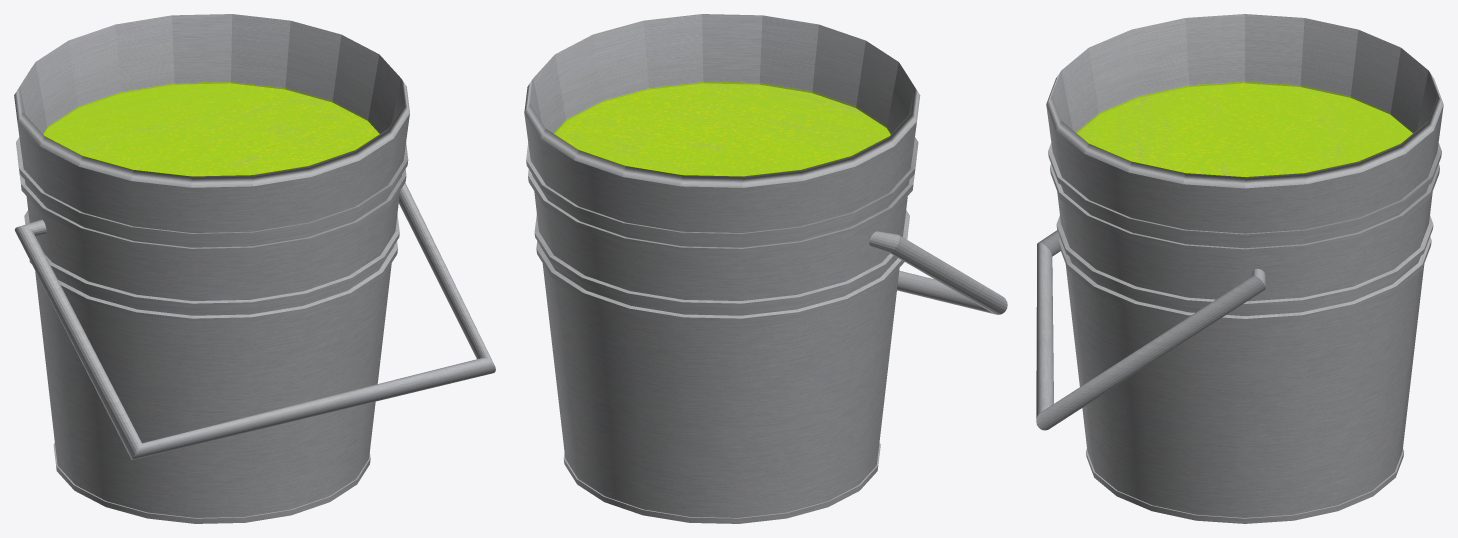
File: BucketWithGreenLiquid.fbx
The picture shows the model from 3 angles, left to right: view 1: azimuth 30°, elevation 25°; view 2: azimuth 150°, elevation 25°; view 3: azimuth 270°, elevation 25°; orthographic projection.
Parts seen in each view (by area): view 1: PaintBocket; view 2: PaintBocket; view 3: PaintBocket.
Part boxes in pixels (box(x1,y1,x2,y2)): PaintBocket: box(14, 14, 495, 523); PaintBocket: box(524, 14, 1007, 523); PaintBocket: box(1036, 14, 1443, 523).
Size of the model in its own units: 42.73 by 40.13 by 41.
